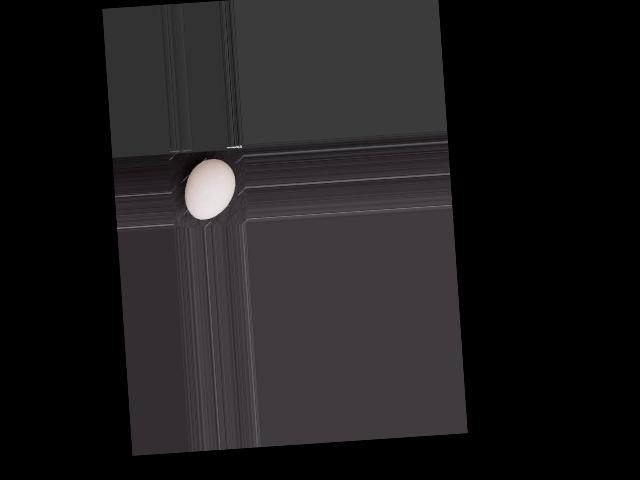egg: (182, 157, 237, 220)
